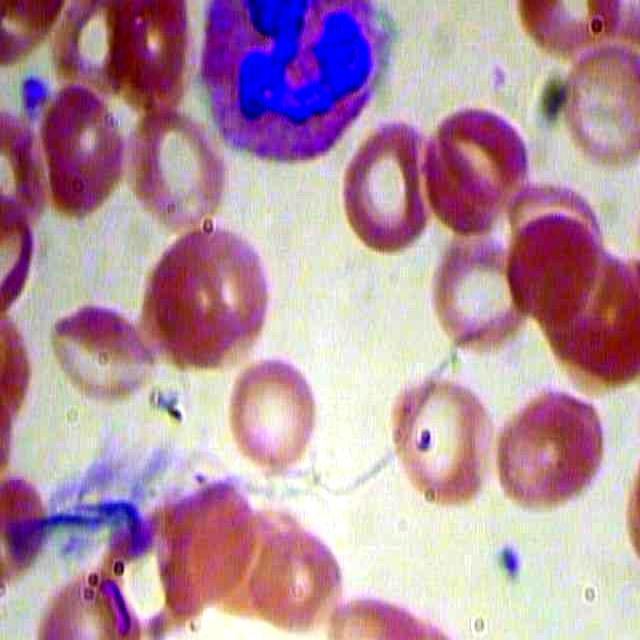Platelets: (15, 70, 49, 122), (487, 542, 526, 586)
RBC: (136, 223, 271, 376), (388, 366, 500, 514), (491, 381, 606, 516), (30, 82, 138, 222), (48, 281, 159, 408), (342, 122, 448, 250), (427, 104, 533, 232), (425, 226, 531, 354), (123, 104, 229, 232), (227, 353, 329, 479), (247, 515, 346, 633), (555, 41, 640, 172)
WBC: (193, 1, 408, 164)
